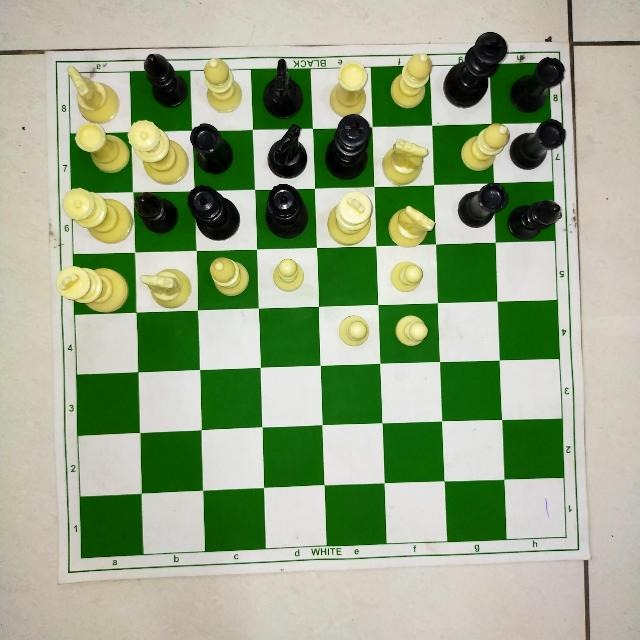black-bishop: (510, 185, 566, 243), (141, 50, 193, 108), (134, 191, 186, 239)
black-king: (445, 30, 507, 110), (323, 110, 373, 181)
black-knight: (261, 57, 311, 120), (262, 122, 316, 180)
black-queen: (261, 182, 315, 242), (186, 185, 242, 239)
black-rook: (512, 54, 566, 115), (456, 179, 508, 239), (511, 117, 567, 171), (189, 118, 241, 176)
white-bishop: (453, 118, 511, 179), (388, 46, 435, 112), (199, 55, 243, 113), (203, 254, 251, 304)
white-king: (57, 260, 129, 318), (326, 188, 376, 246)
white-knight: (61, 62, 123, 122), (138, 259, 196, 310), (378, 132, 430, 186), (387, 199, 437, 249)
white-pawn: (385, 309, 442, 349), (384, 259, 426, 299), (332, 310, 374, 348), (267, 256, 309, 294)
white-queen: (59, 184, 133, 247), (128, 117, 192, 180)
white-rook: (70, 121, 131, 176), (328, 60, 371, 112)
